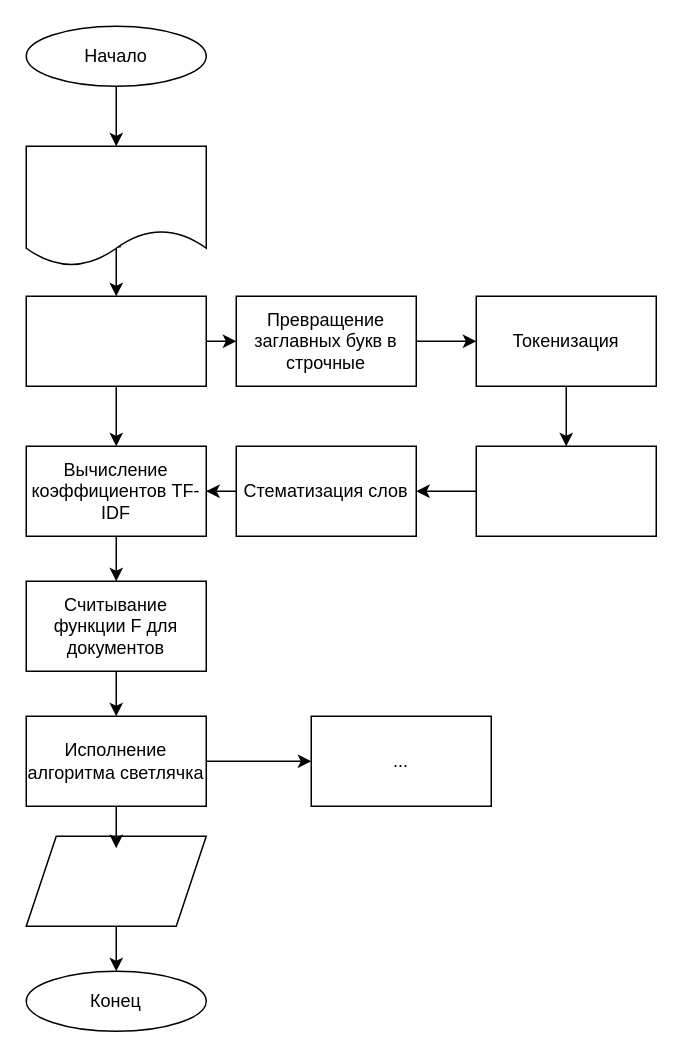
Image size: 683x1058. Some labels were removed from this diagram. The box of each missing label's shape, as (x1, y1, x2, y2) in pixels:
Ввод нескольких документов: (25, 145, 206, 266)
Вывод суммаризации из лучшего светлячка: (25, 835, 206, 926)
Предобработка текста: (25, 295, 206, 386)
Удаление стоп-слов: (475, 445, 656, 536)
